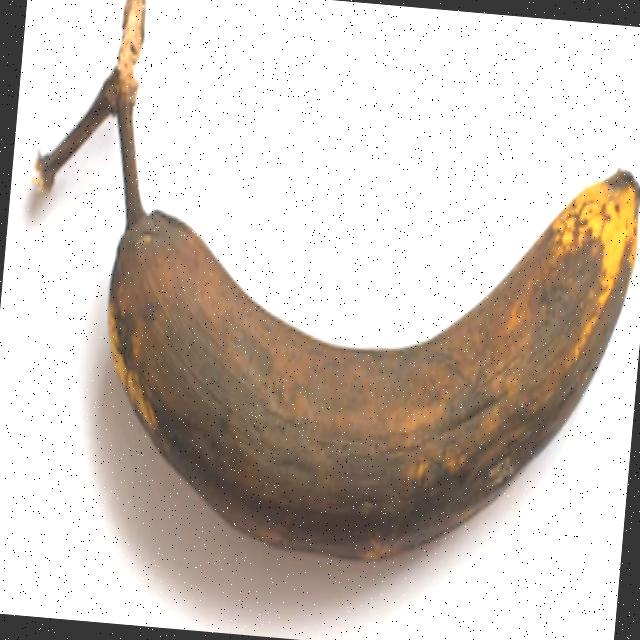Rotten: (3, 0, 640, 599)
